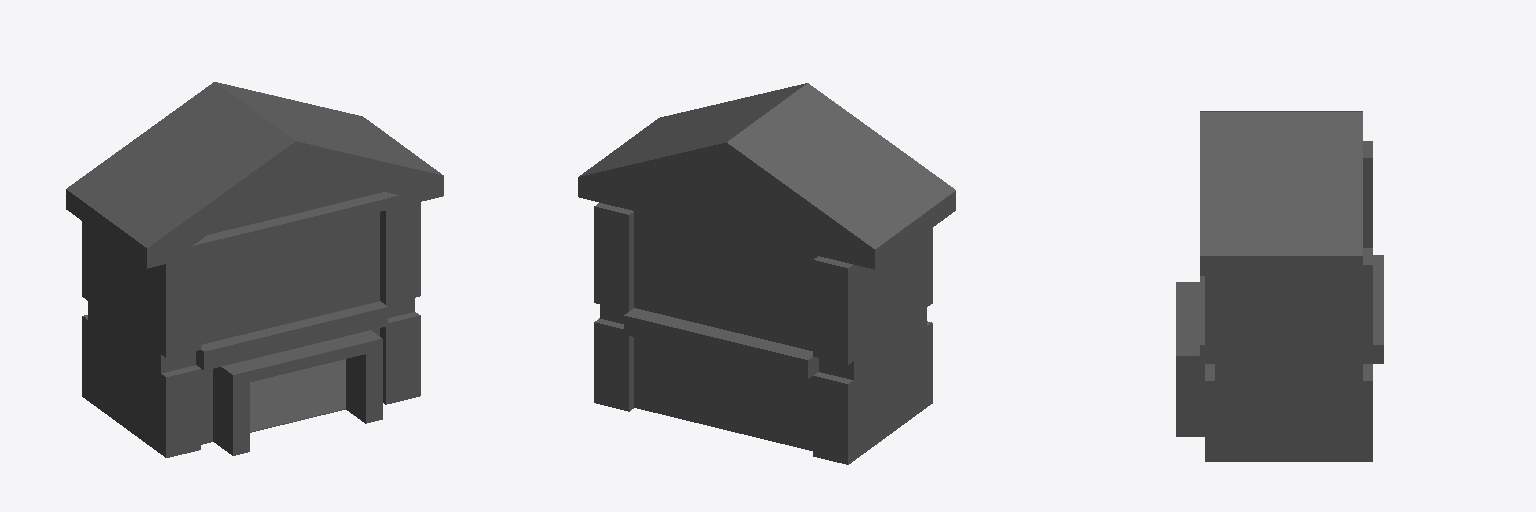
The model's file is temple2.obj.
3 views of the same model, side by side, from view 1: azimuth 30°, elevation 25°; view 2: azimuth 150°, elevation 25°; view 3: azimuth 270°, elevation 25° (orthographic).
Visible parts, largest first — view 1: Cube.001_Cube.005; view 2: Cube.001_Cube.005; view 3: Cube.001_Cube.005.
Boxes of the visible parts, <box> form: Cube.001_Cube.005: <box>66,82,443,457</box>; Cube.001_Cube.005: <box>578,83,955,464</box>; Cube.001_Cube.005: <box>1176,111,1383,461</box>.
Bounding box in the file's own units: 4.65 × 4.31 × 2.81.